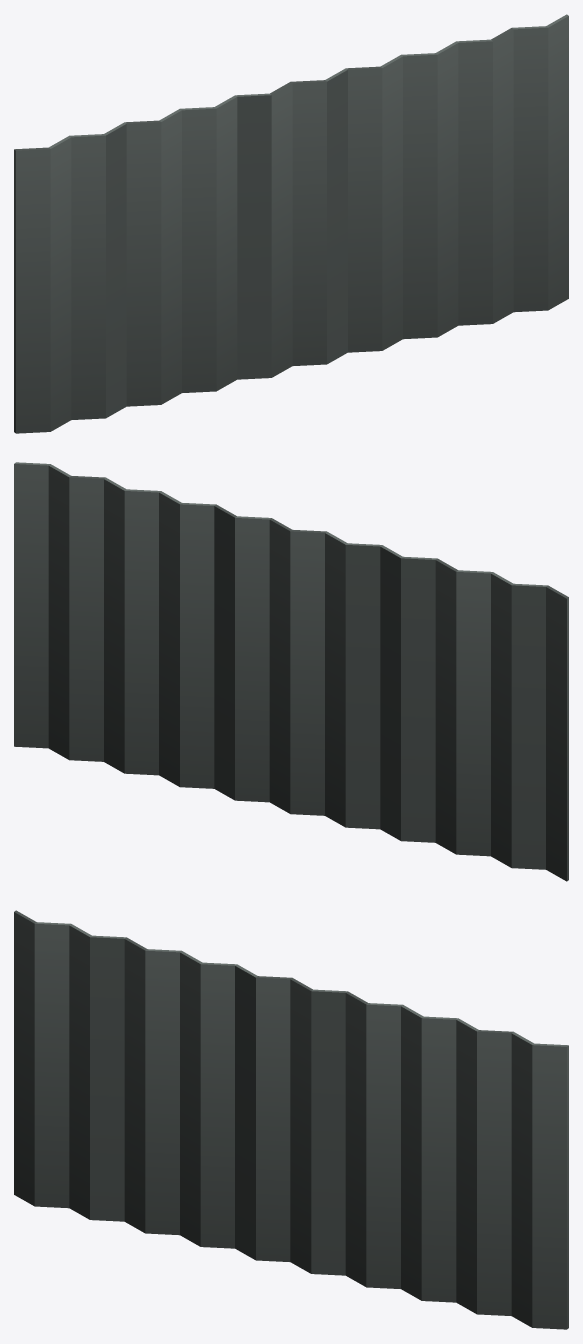
File: Prop_Metal_Sheet_04.obj
3 views of the same model, one above another, from view 1: azimuth 30°, elevation 25°; view 2: azimuth 150°, elevation 25°; view 3: azimuth 330°, elevation 25° (orthographic).
Parts seen in each view (by area): view 1: Prop_Metal_Sheet_04; view 2: Prop_Metal_Sheet_04; view 3: Prop_Metal_Sheet_04.
Boxes of the visible parts, x1,y1,x2,y2 form: Prop_Metal_Sheet_04: (14, 14, 568, 433); Prop_Metal_Sheet_04: (14, 462, 568, 881); Prop_Metal_Sheet_04: (14, 910, 568, 1329).
Size of the model in its own units: 4.5 by 2.2 by 0.1272.
Materials: 1 (1 with a texture image).
